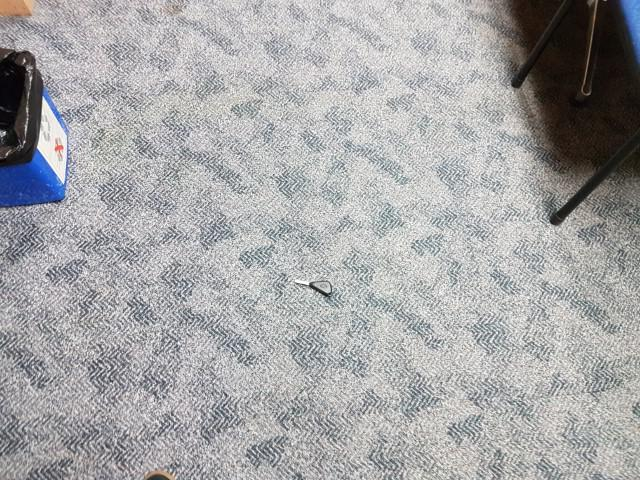key: (295, 280, 333, 296)
